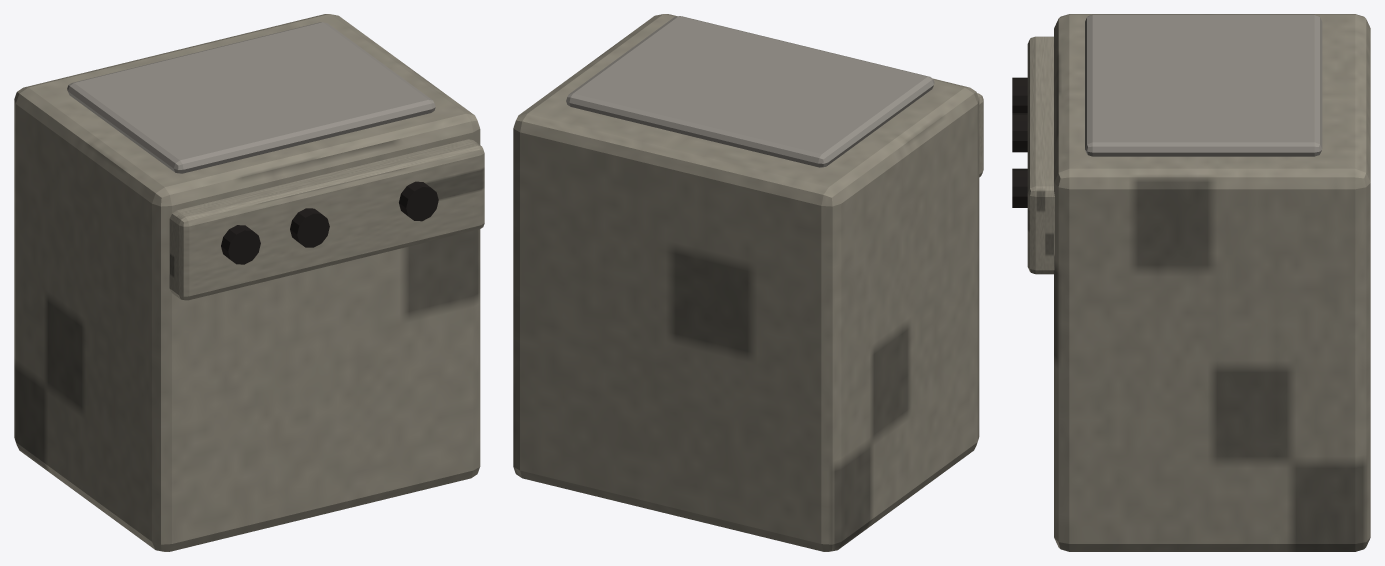
Rendered from basement-washer.glb.
3 renders of one model, left to right at view 1: azimuth 30°, elevation 25°; view 2: azimuth 150°, elevation 25°; view 3: azimuth 270°, elevation 25°, orthographic. The views are drawn at different scales.
Parts seen in each view (by area): view 1: SM_lonely_basement_washer_Metal_DirtyEnamel, SM_Prop_WasherLid, SM_lonely_basement_washer_Rubber_SootBlack; view 2: SM_lonely_basement_washer_Metal_DirtyEnamel, SM_Prop_WasherLid; view 3: SM_lonely_basement_washer_Metal_DirtyEnamel, SM_Prop_WasherLid, SM_lonely_basement_washer_Rubber_SootBlack.
Boxes of the visible parts, x1,y1,x2,y2 form: SM_lonely_basement_washer_Metal_DirtyEnamel: [14, 14, 484, 551]; SM_Prop_WasherLid: [67, 22, 435, 173]; SM_lonely_basement_washer_Rubber_SootBlack: [221, 181, 438, 264]; SM_lonely_basement_washer_Metal_DirtyEnamel: [513, 14, 983, 551]; SM_Prop_WasherLid: [566, 16, 934, 167]; SM_lonely_basement_washer_Metal_DirtyEnamel: [1027, 14, 1370, 551]; SM_Prop_WasherLid: [1085, 14, 1322, 156]; SM_lonely_basement_washer_Rubber_SootBlack: [1012, 77, 1027, 207].
Size of the model in its own units: 0.9 by 0.9925 by 0.815.
Materials: 3 (1 with a texture image).
